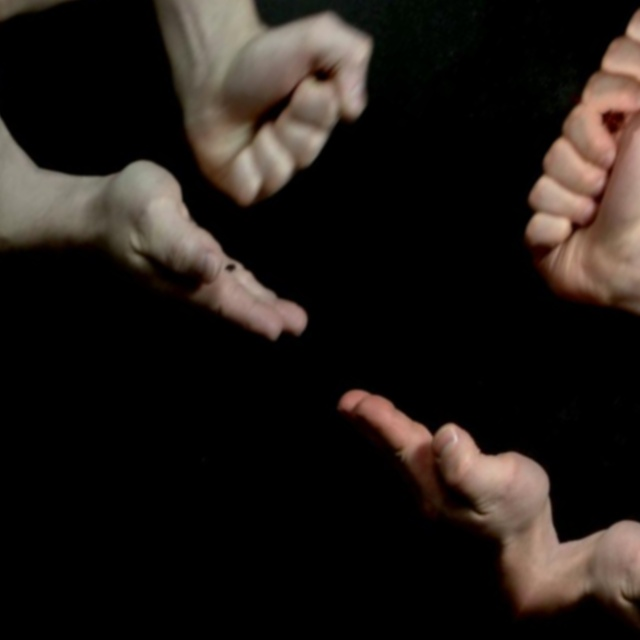Rock: (165, 0, 404, 233), (486, 98, 640, 321)
